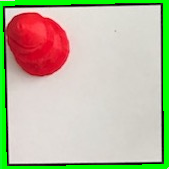Red Bishop: (4, 9, 73, 79)
